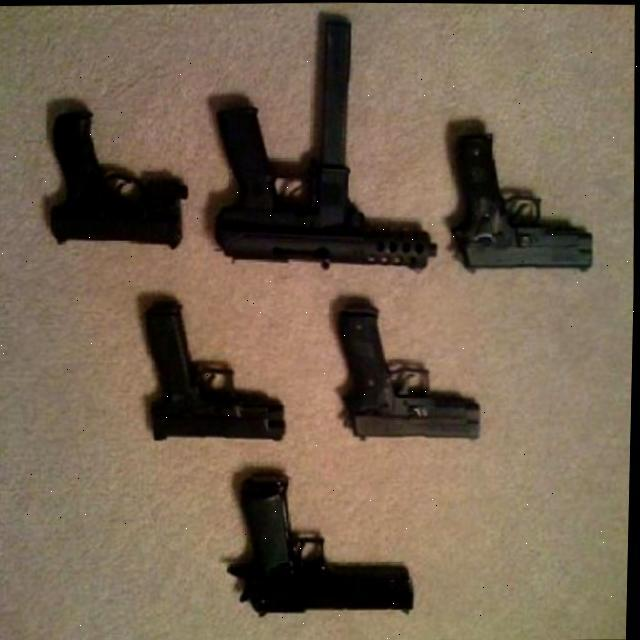gun: (226, 473, 419, 621), (140, 300, 292, 446), (46, 103, 190, 254), (336, 302, 484, 446), (448, 132, 594, 276)
